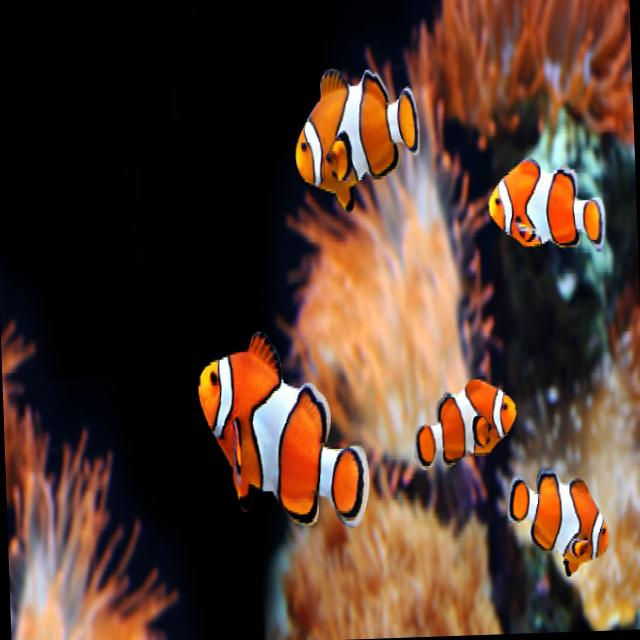ClownFish: (198, 324, 372, 536), (292, 60, 422, 214), (485, 151, 606, 254), (506, 464, 610, 582), (413, 376, 518, 471)
